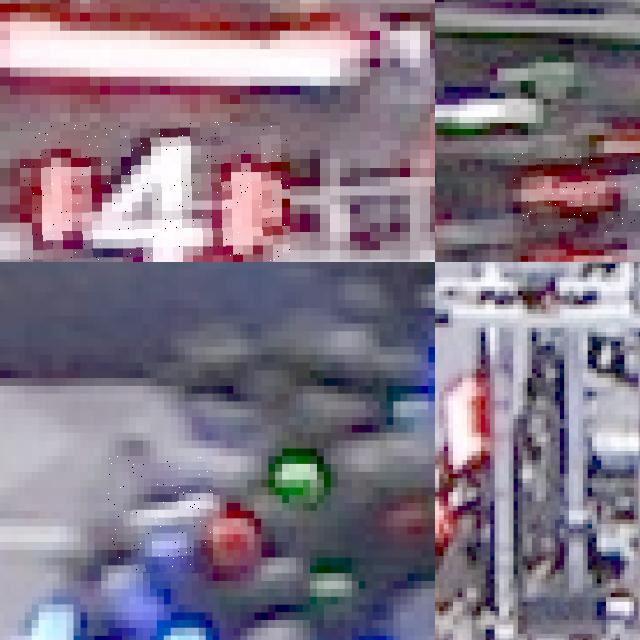B1: (142, 588, 400, 640), (108, 456, 213, 573)
R1: (512, 153, 640, 231)
R4: (20, 122, 290, 262)
